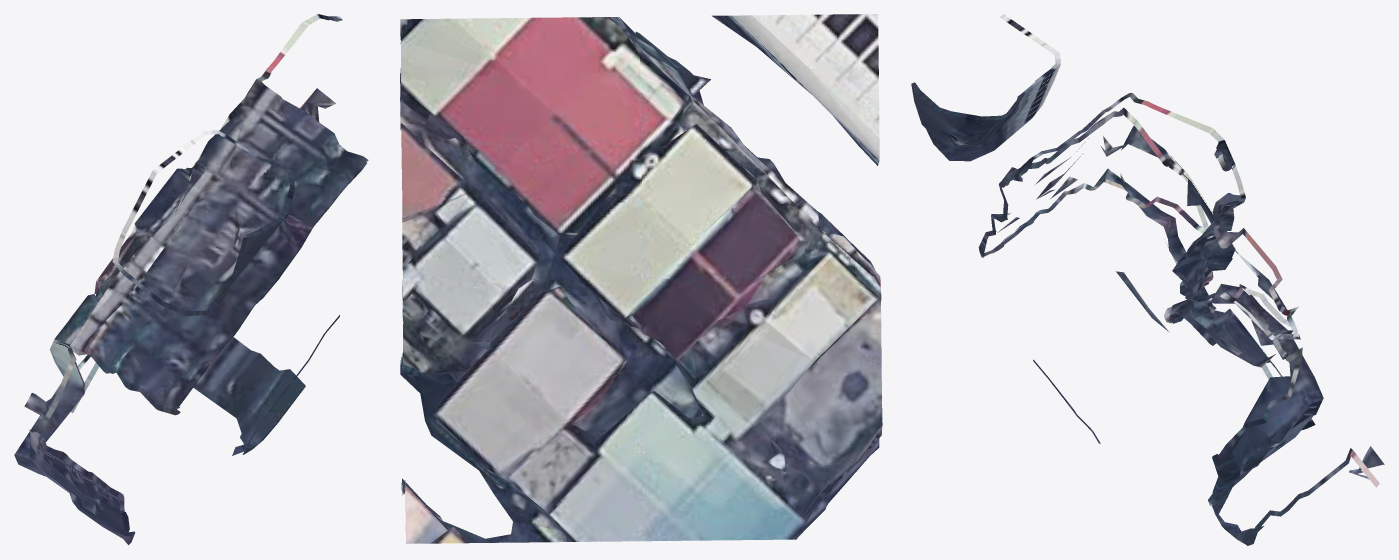
The picture shows the model from 3 angles, left to right: view 1: azimuth 30°, elevation 25°; view 2: azimuth 150°, elevation 25°; view 3: azimuth 270°, elevation 25°; orthographic projection. The views are drawn at different scales.
Bounding box in the file's own units: 36.03 × 40.43 × 40.37.
Materials: 2 (2 with a texture image).
